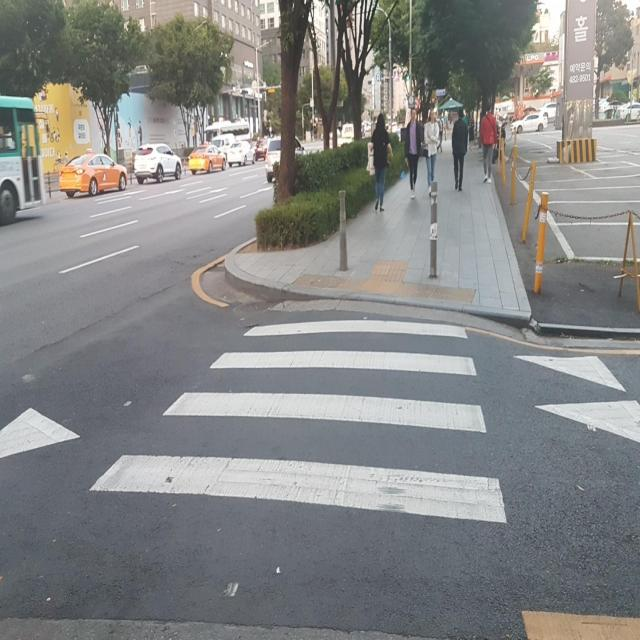횡단보도: (85, 312, 510, 530)
